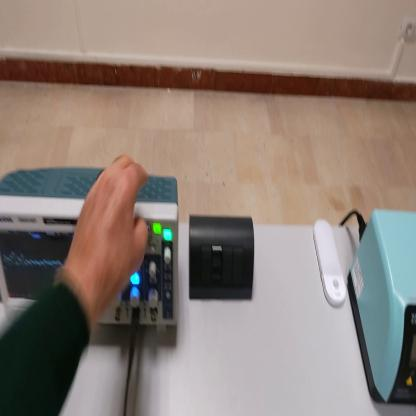hand: (66, 155, 151, 313)
oscilloscope: (1, 163, 179, 330)
welder station: (349, 212, 416, 400)
